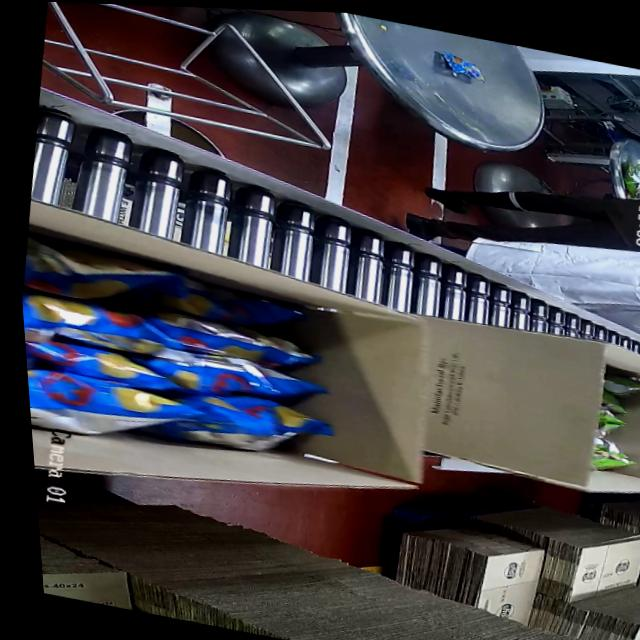PAPRIKA: (17, 232, 387, 522)
